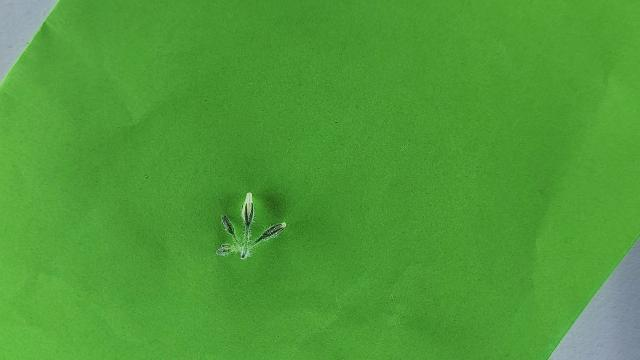Flower Bud: (256, 221, 286, 242), (242, 201, 254, 228), (215, 243, 236, 257), (221, 215, 234, 236)
